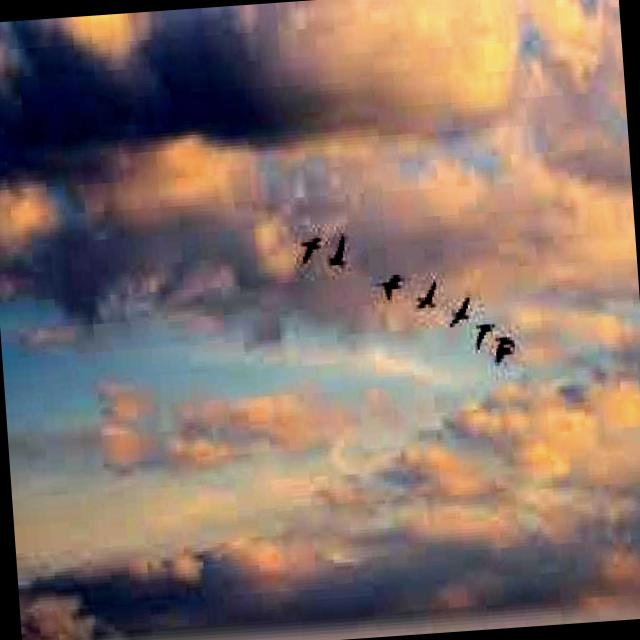bird: (292, 220, 328, 271), (372, 261, 407, 308), (440, 289, 477, 331), (493, 326, 524, 374), (320, 230, 348, 282), (472, 306, 500, 350), (412, 275, 442, 312)
